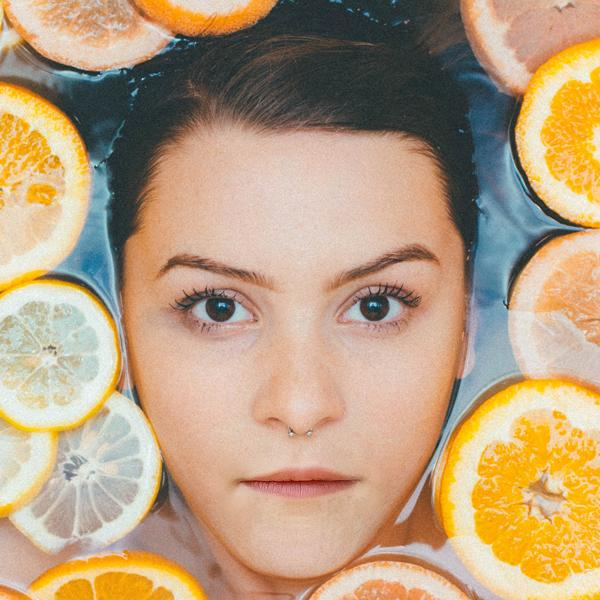Eyes: (165, 276, 266, 341), (328, 278, 430, 340)
